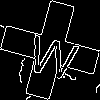W: (25, 25, 83, 82)
